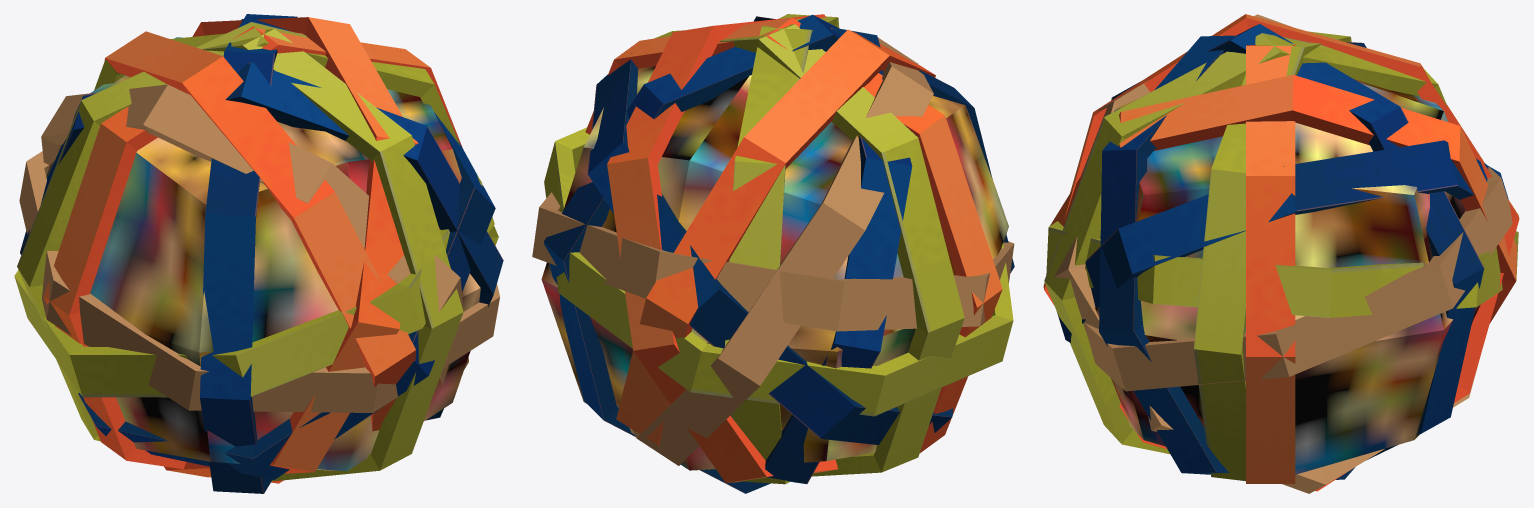
File: elastic_ball.obj
The picture shows the model from 3 angles, left to right: view 1: azimuth 30°, elevation 25°; view 2: azimuth 150°, elevation 25°; view 3: azimuth 270°, elevation 25°; orthographic projection. The views are drawn at different scales.
Parts seen in each view (by area): view 1: elastic_ball; view 2: elastic_ball; view 3: elastic_ball.
Boxes of the visible parts, box(x1,y1,x2,y2) form: elastic_ball: box(14, 14, 503, 493); elastic_ball: box(532, 14, 1014, 493); elastic_ball: box(1043, 14, 1519, 493).
Bounding box in the file's own units: 0.1244 × 0.1245 × 0.125.
